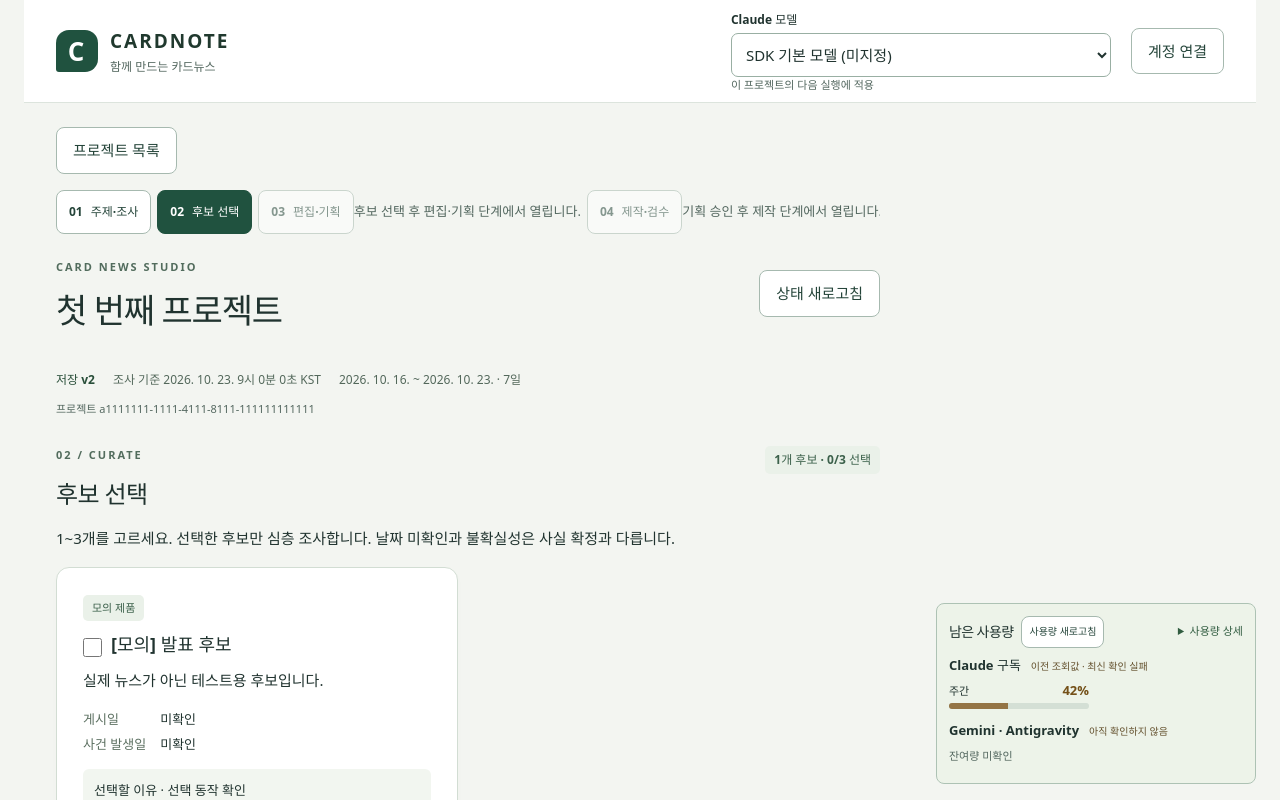
it: 조회된 모델 value를 프로젝트별로 저장하고 사용량 숫자와 미확인을 구분한다
This screenshot has width=1280, height=800.
expect the heading "첫 번째 프로젝트" is shown: met, box [56,288,282,334]
Select "SDK 표시 모델" in the dropdown labelled "Claude 모델". click: {"x": 921, "y": 55}
box: [731,33,1111,77]
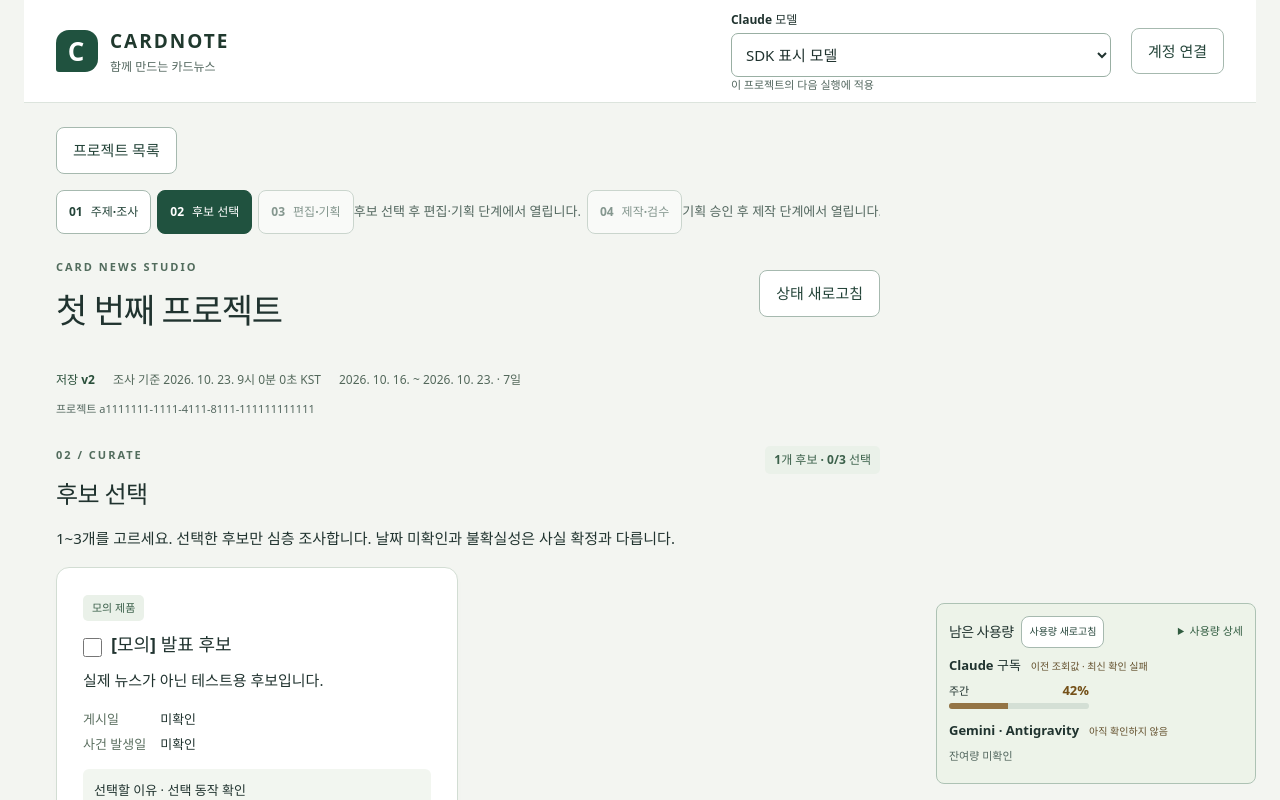
expect the text "42%" is shown: met, box [1062,681,1089,699]
Click the heading "사용량 상세". click: {"x": 1216, "y": 630}
box: [1190,623,1243,638]
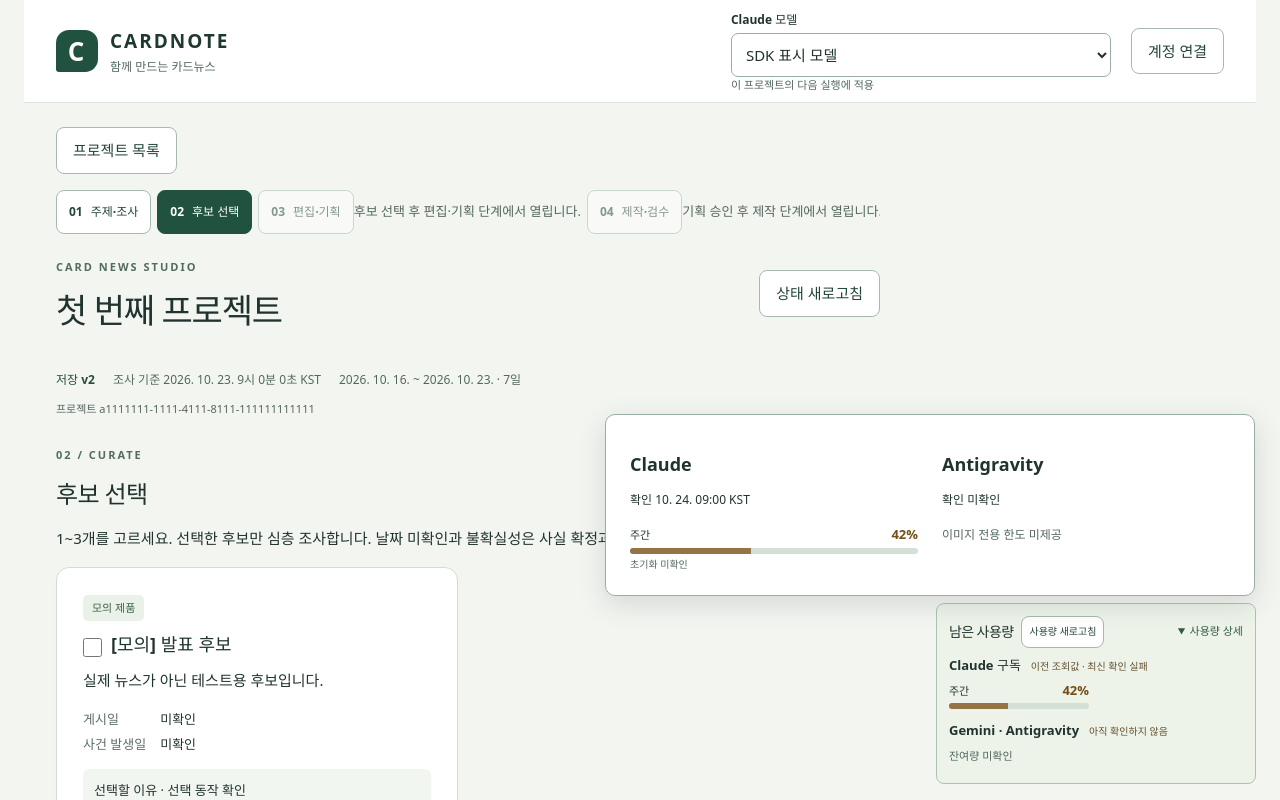
expect the text "이미지 전용 한도 미제공" is shown: met, box [942,526,1062,544]
